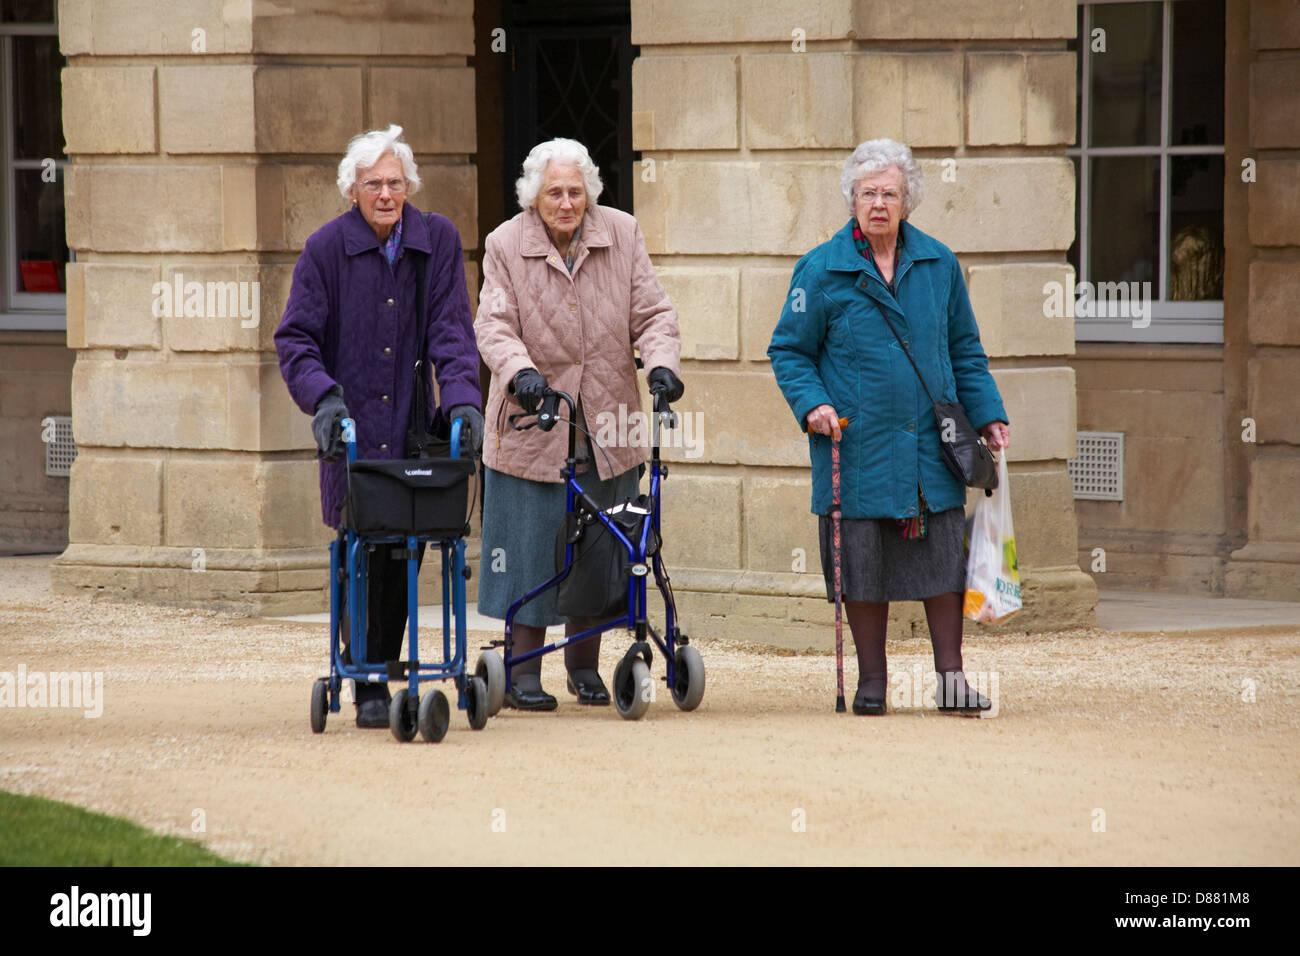crutches: (767, 138, 1022, 716)
walking_frame: (472, 138, 706, 719), (275, 126, 489, 744)
